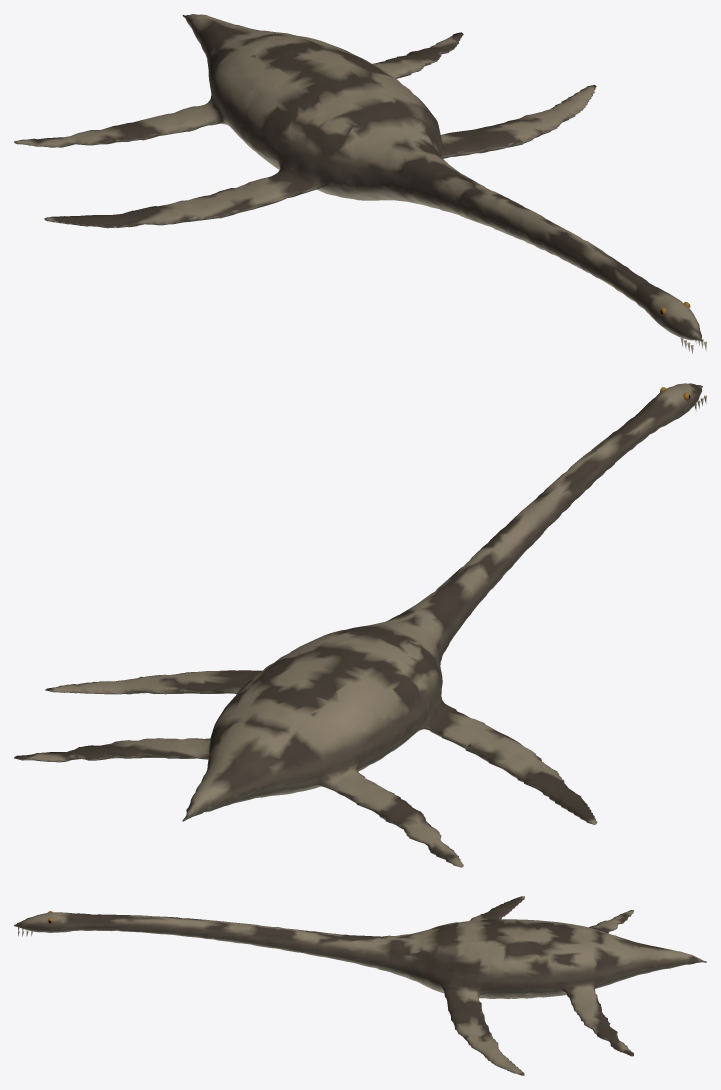
File: Elasmosaurus.fbx
The picture shows the model from 3 angles, top to bottom: view 1: azimuth 30°, elevation 25°; view 2: azimuth 150°, elevation 25°; view 3: azimuth 270°, elevation 25°; orthographic projection. The views are drawn at different scales.
Parts seen in each view (by area): view 1: Elasmosaurus; view 2: Elasmosaurus; view 3: Elasmosaurus.
Part boxes in pixels (bbox=[...]): Elasmosaurus: bbox=[14, 14, 706, 353]; Elasmosaurus: bbox=[14, 383, 706, 867]; Elasmosaurus: bbox=[14, 896, 706, 1075].
Size of the model in its own units: 1.15 by 0.2289 by 1.88.
